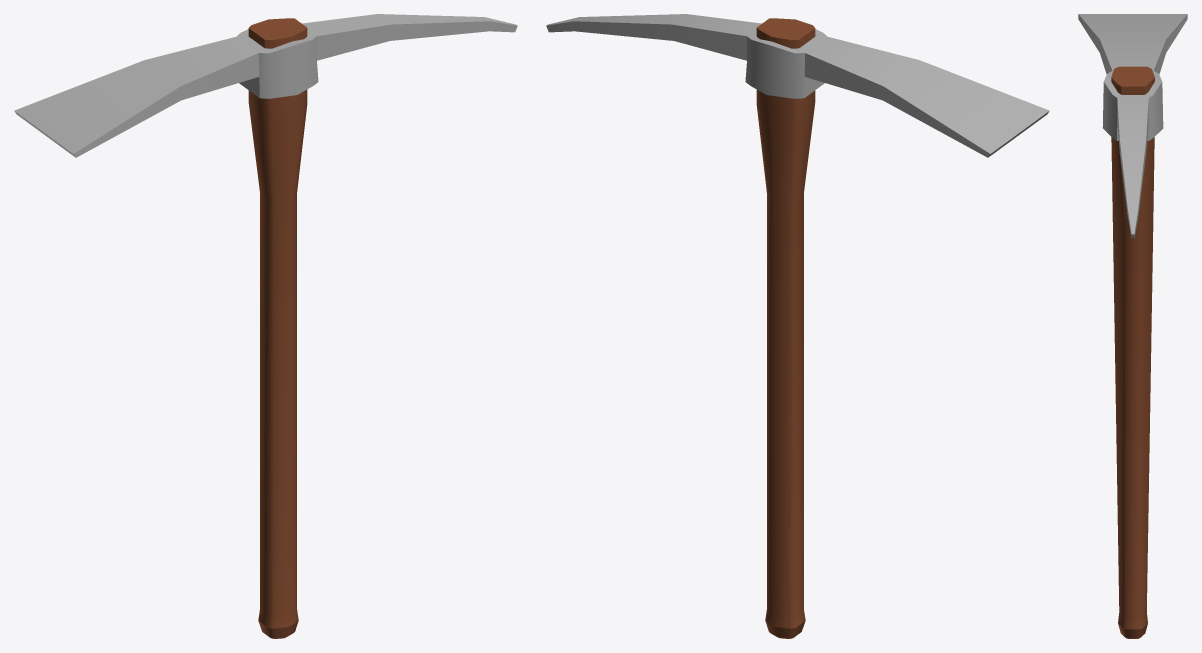
Rendered from pickaxe.glb.
The picture shows the model from 3 angles, left to right: view 1: azimuth 30°, elevation 25°; view 2: azimuth 150°, elevation 25°; view 3: azimuth 270°, elevation 25°; orthographic projection. The views are drawn at different scales.
Parts seen in each view (by area): view 1: pickaxe.001; view 2: pickaxe.001; view 3: pickaxe.001.
Boxes of the visible parts, bbox=[...] form: pickaxe.001: bbox=[14, 14, 517, 638]; pickaxe.001: bbox=[546, 14, 1049, 638]; pickaxe.001: bbox=[1078, 14, 1187, 638].
Size of the model in its own units: 0.777 by 0.9518 by 0.1689.
